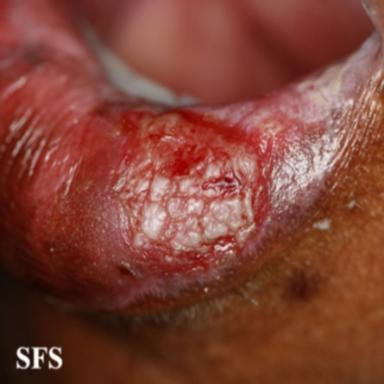lichen: (43, 34, 384, 311)
